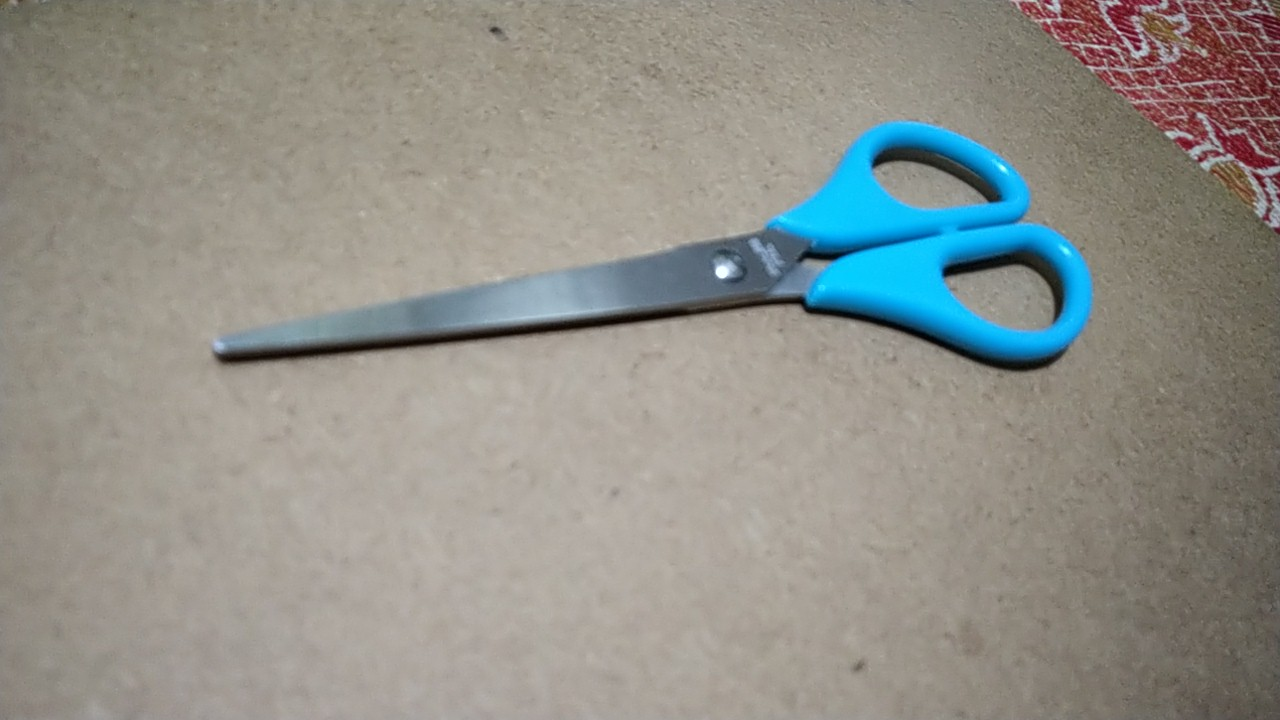scissor: (188, 105, 1120, 411)
